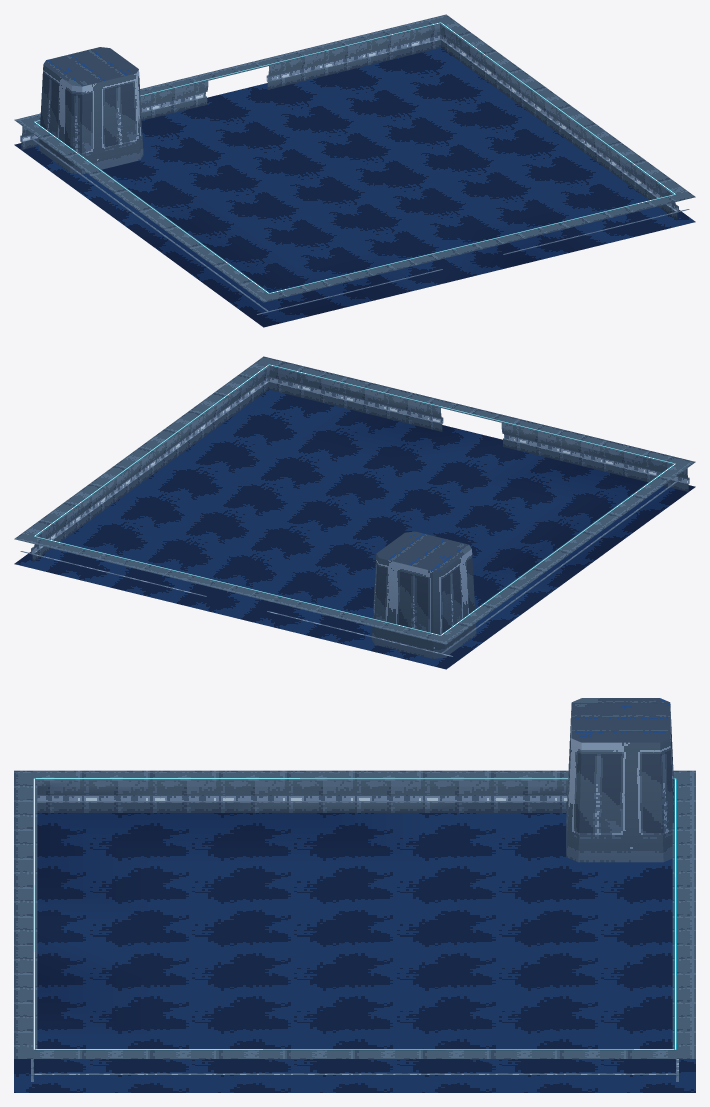
The model's file is cyroom.rooftop__tower.glb.
The picture shows the model from 3 angles, top to bottom: view 1: azimuth 30°, elevation 25°; view 2: azimuth 150°, elevation 25°; view 3: azimuth 270°, elevation 25°; orthographic projection. The views are drawn at different scales.
Parts seen in each view (by area): view 1: kit_shell_floor, kit_shell_walls, kit_trim, kit_card_lights; view 2: kit_shell_floor, kit_shell_walls, kit_trim, kit_card_lights; view 3: kit_shell_floor, kit_shell_walls, kit_trim, kit_card_lights.
Part boxes in pixels (x1,y1,x2,y2): kit_shell_floor: (14,47,695,327); kit_shell_walls: (14,14,695,314); kit_trim: (39,47,143,174); kit_card_lights: (34,22,675,293); kit_shell_floor: (14,389,695,669); kit_shell_walls: (14,356,695,656); kit_trim: (371,531,476,658); kit_card_lights: (34,364,675,635); kit_shell_floor: (14,813,695,1092); kit_shell_walls: (14,770,695,1081); kit_trim: (566,698,673,862); kit_card_lights: (33,778,676,1050).
Bounding box in the file's own units: 20 × 3.8 × 20.
6 materials, 6 textured.
